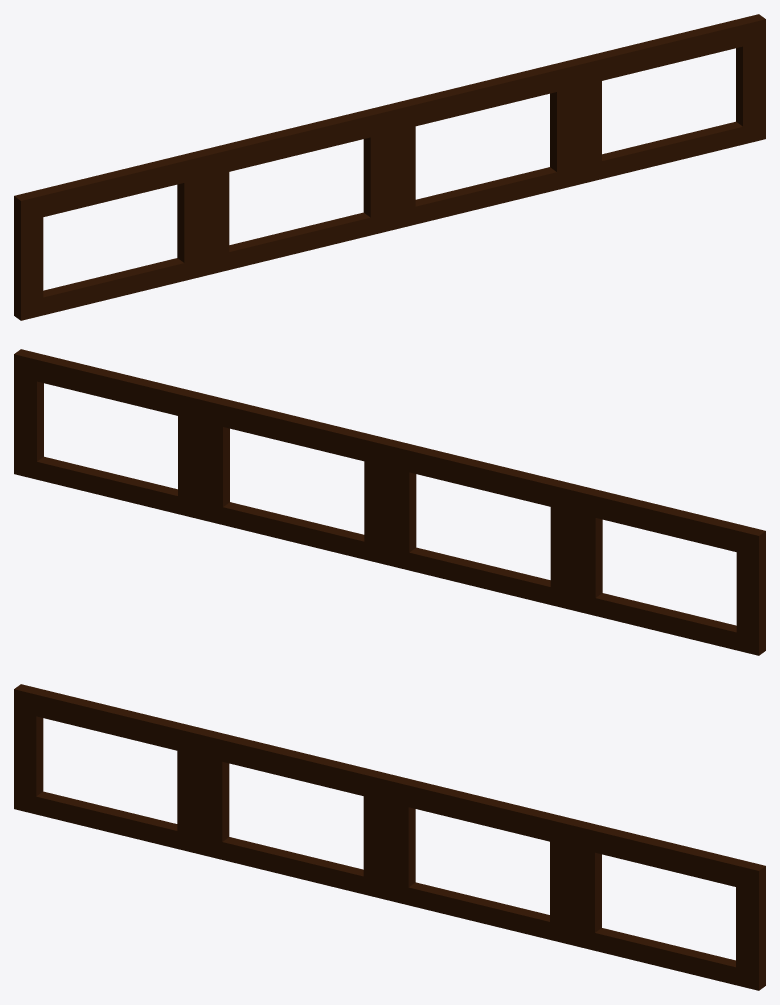
File: reja2.fbx
3 views of the same model, one above another, from view 1: azimuth 30°, elevation 25°; view 2: azimuth 150°, elevation 25°; view 3: azimuth 330°, elevation 25° (orthographic).
Visible parts, largest first — view 1: Cube.016; view 2: Cube.016; view 3: Cube.016.
Boxes of the visible parts, left/top/right/bottom form: Cube.016: left=14, top=14, right=765, bottom=320; Cube.016: left=14, top=349, right=765, bottom=655; Cube.016: left=14, top=684, right=765, bottom=990.
Bounding box in the file's own units: 3840 × 591 × 62.56.
